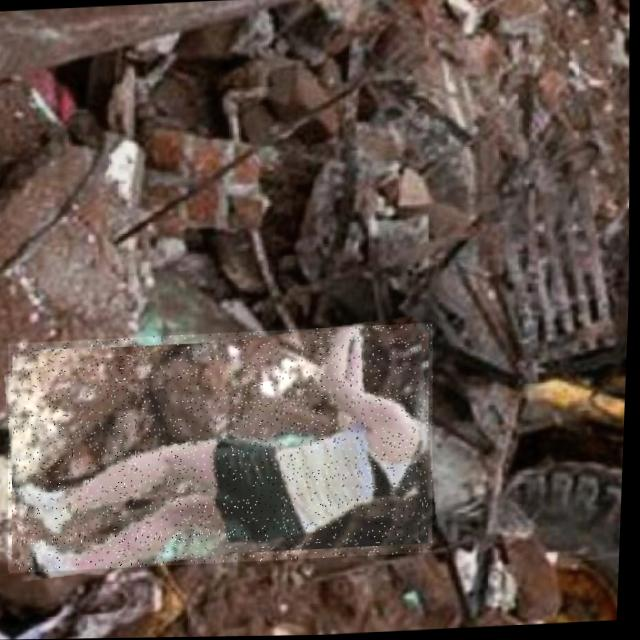Person in Rubble: (3, 323, 442, 573)
